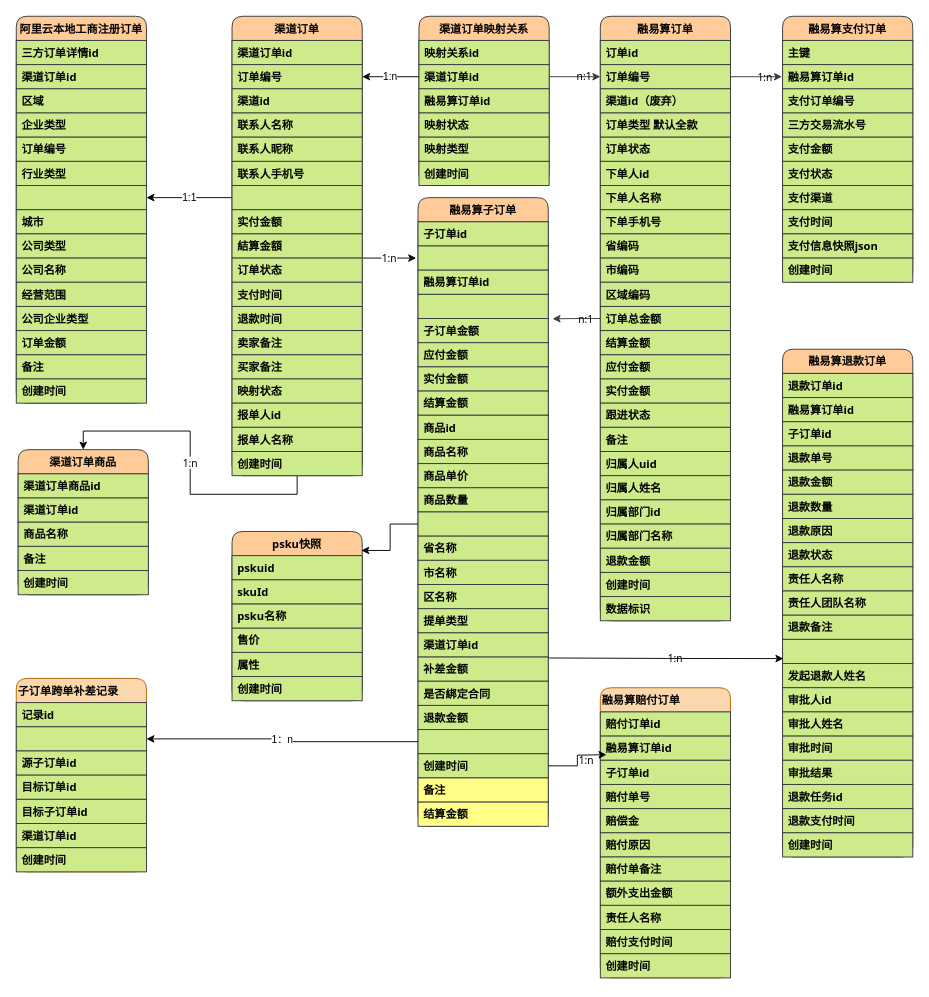
Image size: 929x997. Some labels were removed from this diagram. Here are the shapes that lost their labels. From the top down, the centre of each, then its label:
At [80,197]: "手机号".
At [296,197]: "总金额".
At [482,257]: "子订单编号".
At [482,306]: "子订单状态".
At [482,523]: "商品快照".
At [847,651]: "发起退款人id".
At [80,738]: "源订单id".
At [482,741]: "赔付金额".
